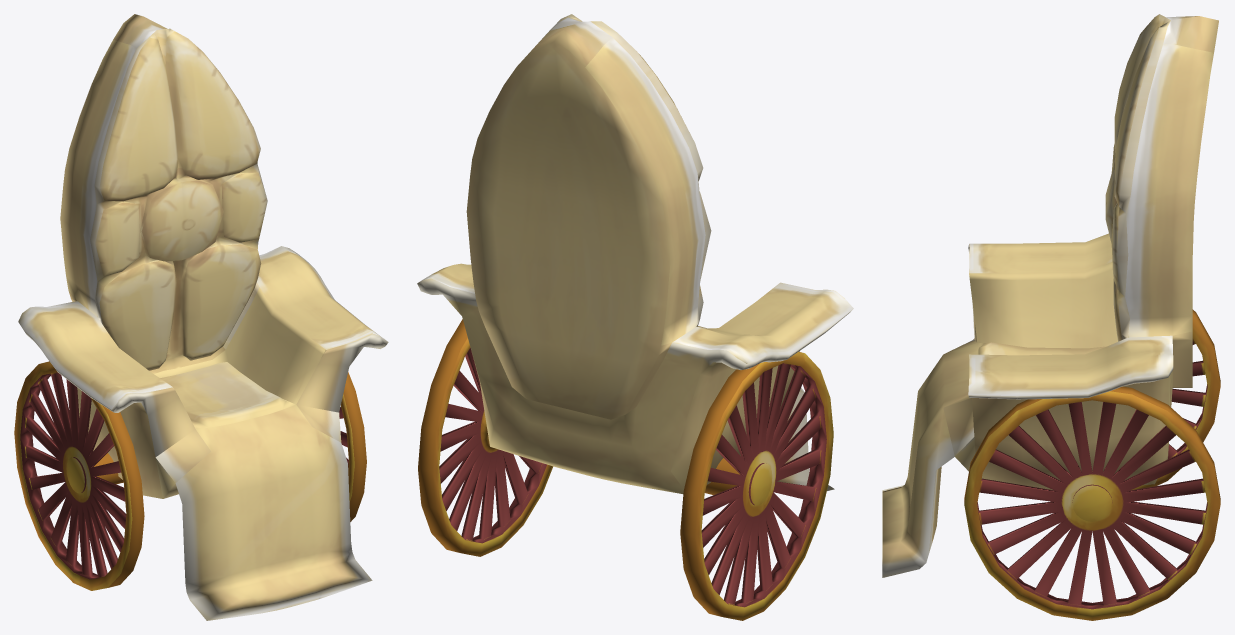
File: Cadeira.fbx
3 renders of one model, left to right at view 1: azimuth 30°, elevation 25°; view 2: azimuth 150°, elevation 25°; view 3: azimuth 270°, elevation 25°, orthographic. The views are drawn at different scales.
Visible parts, largest first — view 1: CA_OPE_Props_CSuliman, pPipe3; view 2: CA_OPE_Props_CSuliman, pPipe3; view 3: CA_OPE_Props_CSuliman, pPipe3.
Boxes of the visible parts, <box> form: CA_OPE_Props_CSuliman: <box>18,14,388,620</box>; pPipe3: <box>14,361,366,590</box>; CA_OPE_Props_CSuliman: <box>417,14,853,493</box>; pPipe3: <box>418,319,833,620</box>; CA_OPE_Props_CSuliman: <box>882,14,1218,577</box>; pPipe3: <box>964,309,1220,620</box>.
Bounding box in the file's own units: 2.95 × 4.99 × 2.81.
Materials: 2 (2 with a texture image).
